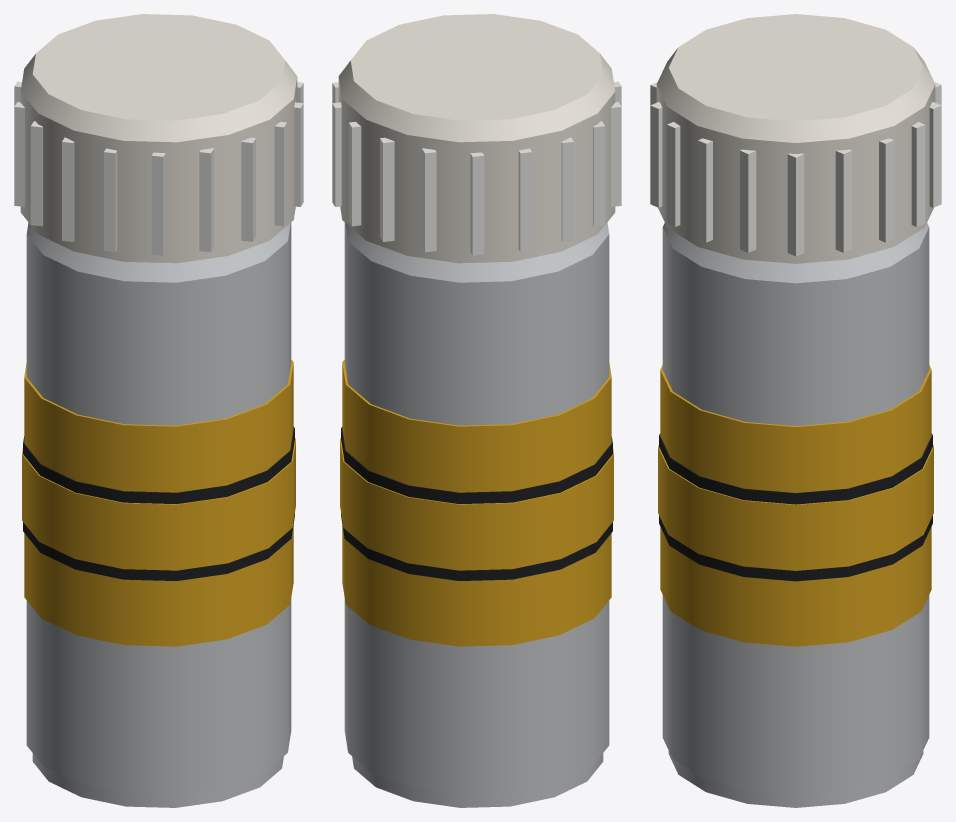
The model's file is tissue-sample.glb.
3 views of the same model, side by side, from view 1: azimuth 30°, elevation 25°; view 2: azimuth 150°, elevation 25°; view 3: azimuth 270°, elevation 25° (orthographic).
Visible parts, largest first — view 1: tissue-sample; view 2: tissue-sample; view 3: tissue-sample.
Part boxes in pixels (<box>): tissue-sample: <box>14,14,303,807</box>; tissue-sample: <box>332,14,621,807</box>; tissue-sample: <box>650,14,941,807</box>.
Bounding box in the file's own units: 0.0488 × 0.125 × 0.0481.
Materials: 1 (1 with a texture image).
